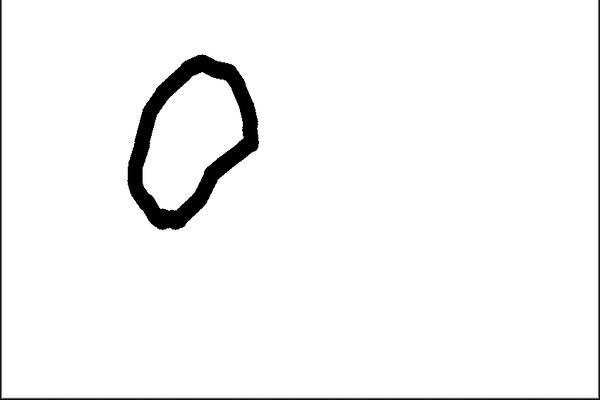O: (106, 46, 264, 241)
